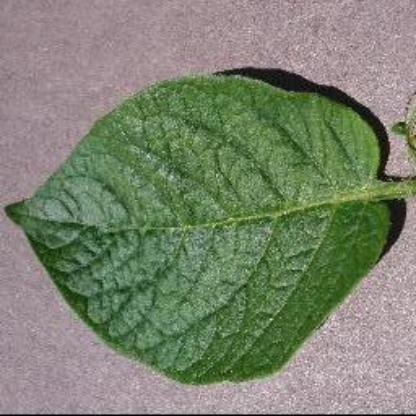Healthy-plant: (2, 71, 416, 389)
